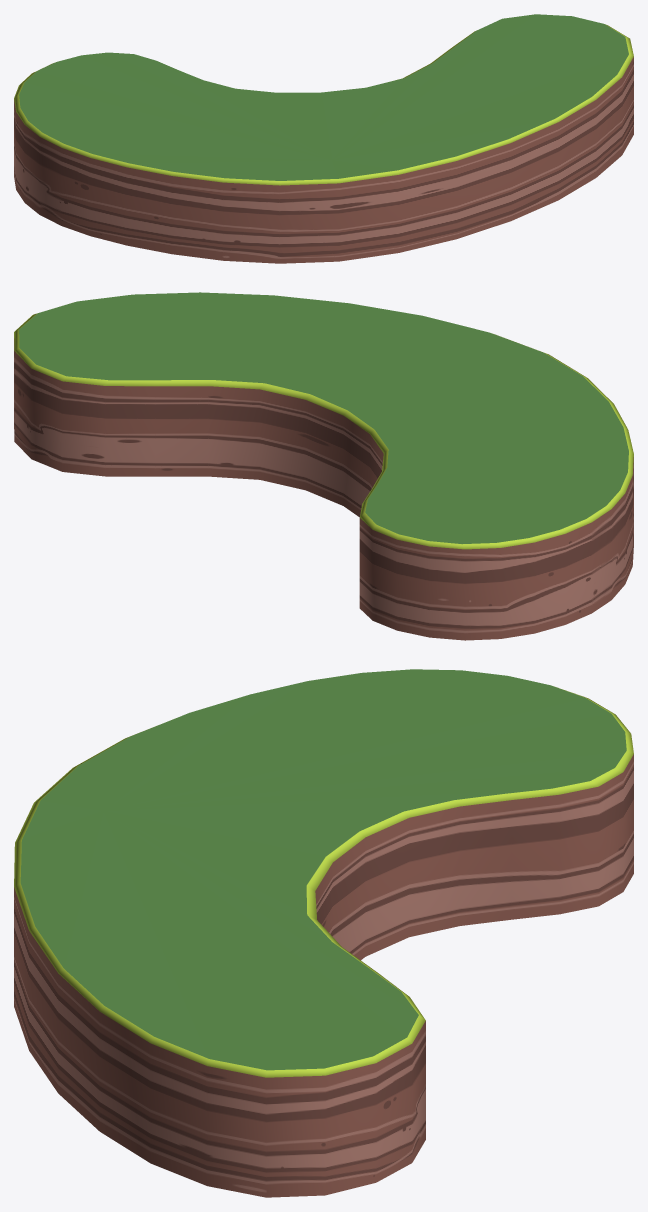
The model's file is grasschunk10.glb.
3 renders of one model, top to bottom at view 1: azimuth 30°, elevation 25°; view 2: azimuth 150°, elevation 25°; view 3: azimuth 270°, elevation 25°, orthographic. The views are drawn at different scales.
Parts seen in each view (by area): view 1: Plate_Curved_Var16_03_Forest_mat_01_0; view 2: Plate_Curved_Var16_03_Forest_mat_01_0; view 3: Plate_Curved_Var16_03_Forest_mat_01_0.
Part boxes in pixels (<box>): Plate_Curved_Var16_03_Forest_mat_01_0: <box>14,14,633,263</box>; Plate_Curved_Var16_03_Forest_mat_01_0: <box>14,292,633,640</box>; Plate_Curved_Var16_03_Forest_mat_01_0: <box>14,669,633,1197</box>.
Size of the model in its own units: 0.2313 by 0.0328 by 0.1488.
Materials: 1 (1 with a texture image).
